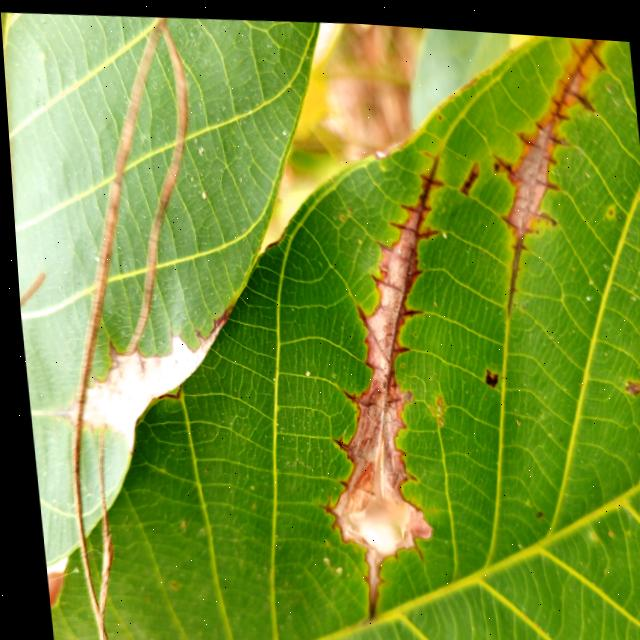Corynespora: (278, 142, 478, 621), (452, 24, 640, 319)
Leaf-Blight: (68, 320, 220, 452)
